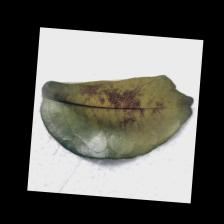canker: (61, 73, 162, 133)
